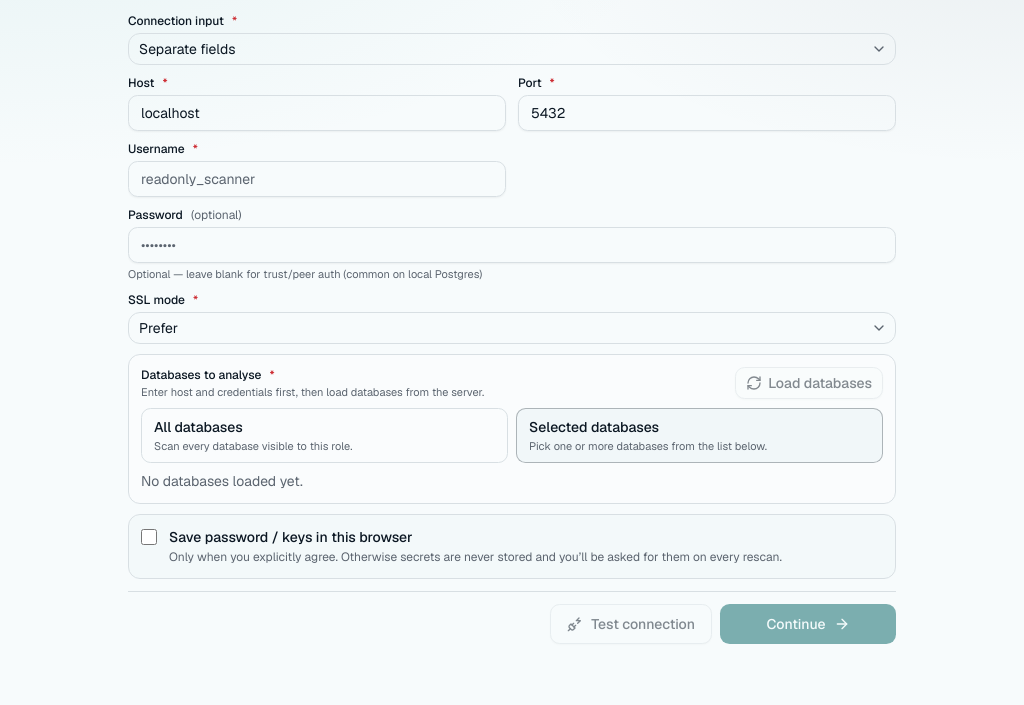
it: ConnectionDetailsForm › shows an error when the connection test fails
In the field labelled "Username *": coordinates (317, 179) [128, 161, 506, 197], type "reader"
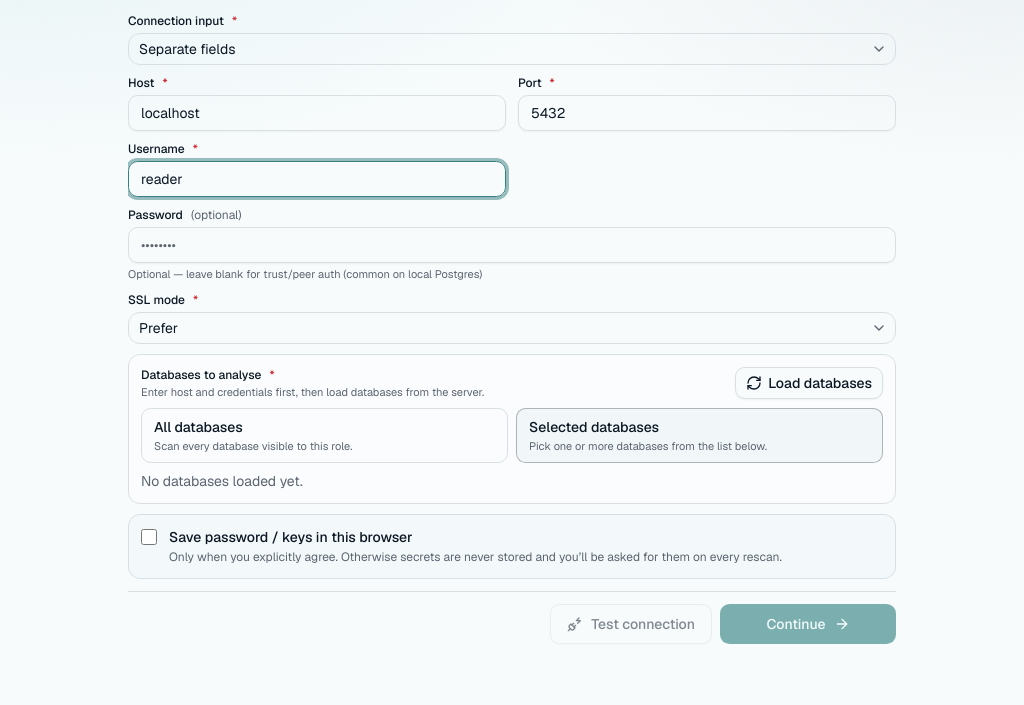
In the password field labelled "Password (optional)": coordinates (512, 245) [128, 227, 896, 263], type "wrong"
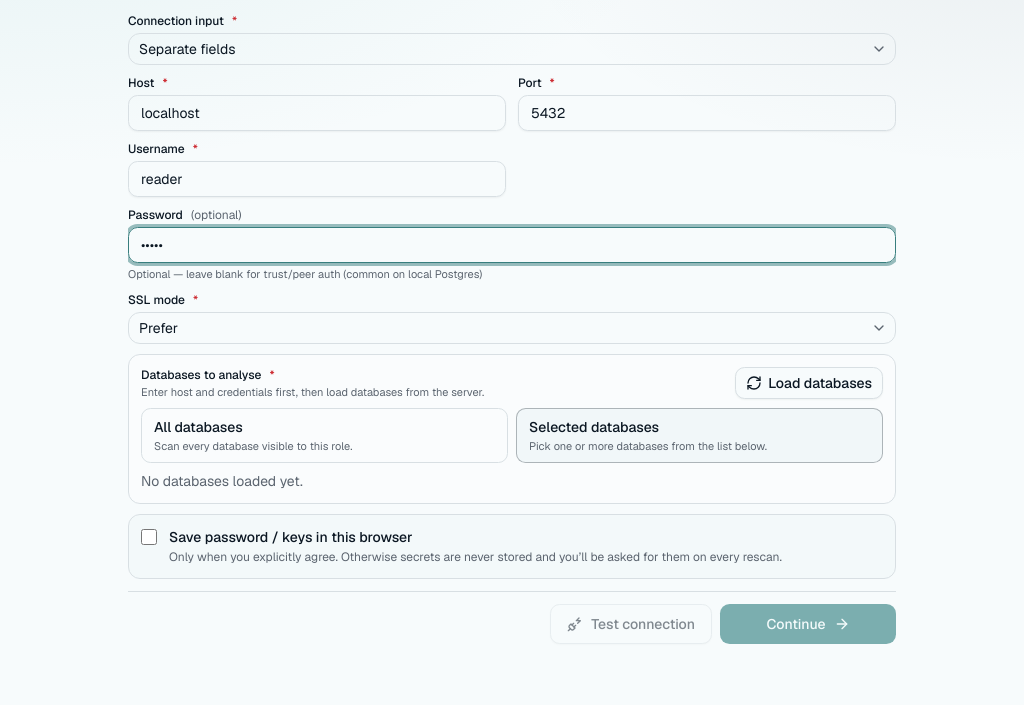
Click the button "Load databases": coordinates (809, 383) [735, 367, 883, 399]
(page scrolled)
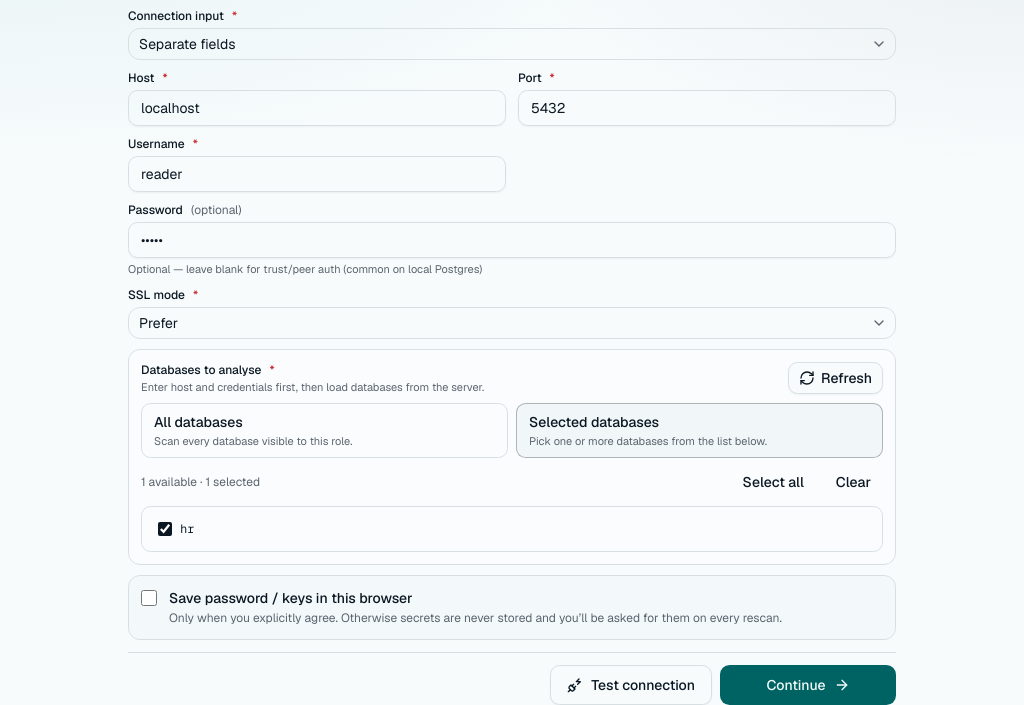
Result: the text "hr" is shown at [180, 521, 194, 537]
Click the button "Test connection": coordinates (631, 685) [550, 665, 712, 704]
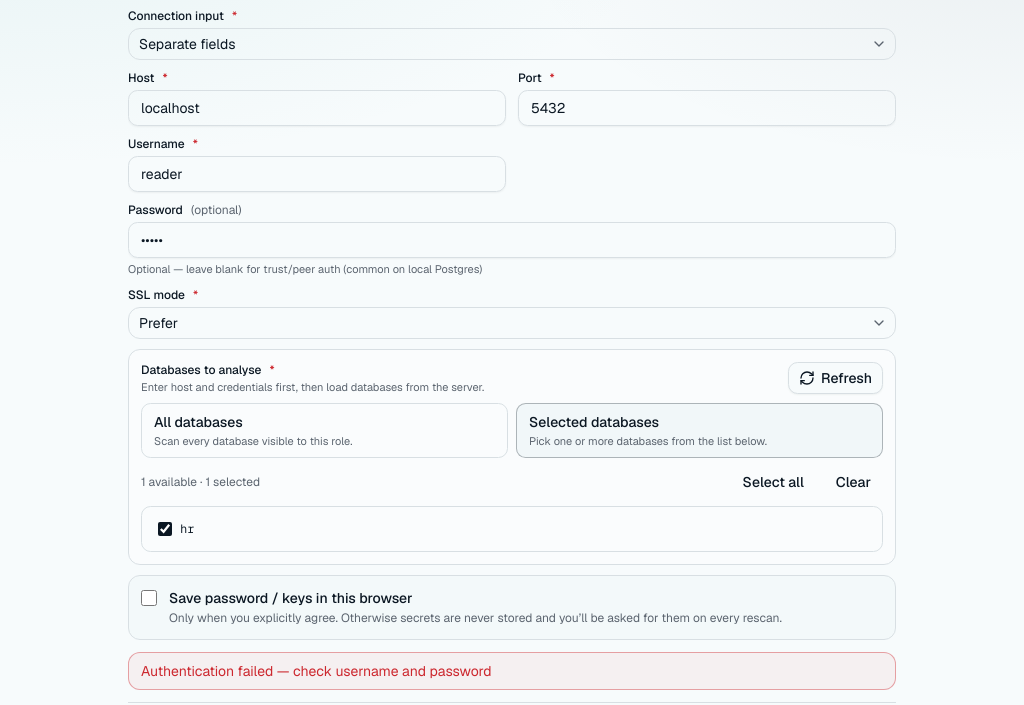
Result: the text "Authentication failed — check username and password" is shown at [128, 652, 896, 690]
